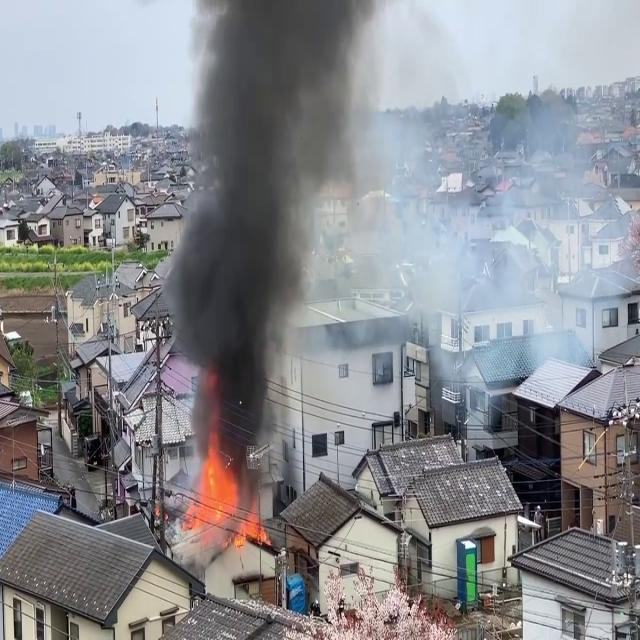Fire: (182, 446, 266, 545)
Smoke: (362, 8, 634, 400), (160, 0, 362, 478)
